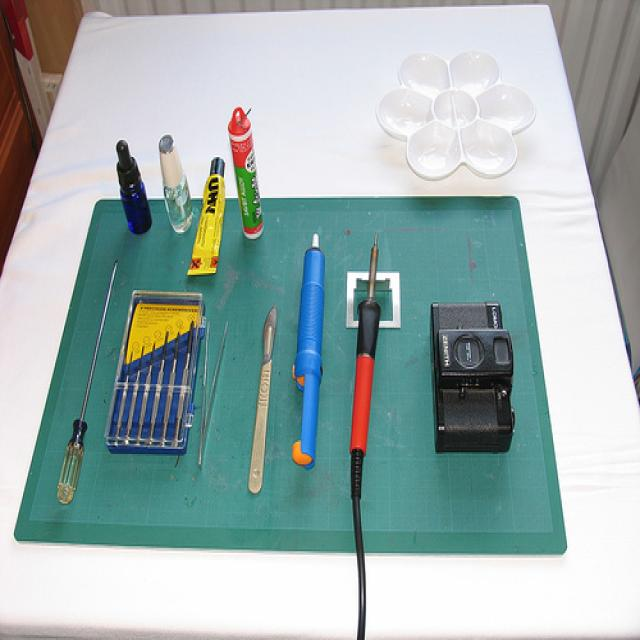screw driver: (47, 254, 127, 554)
